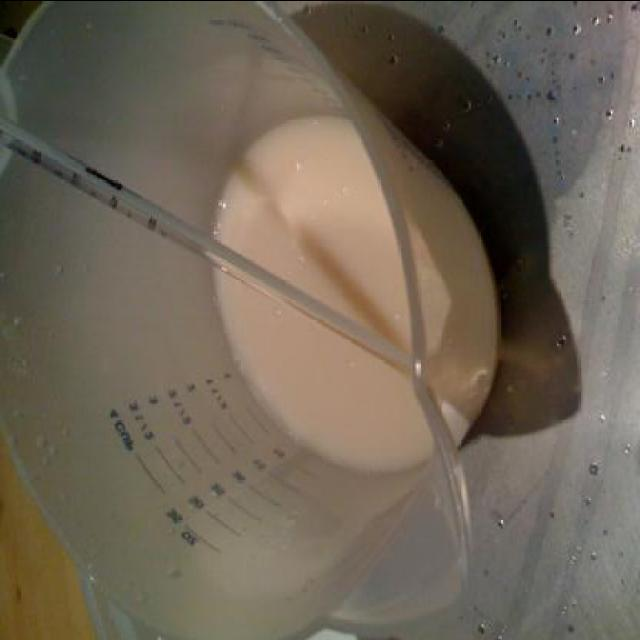Milk: (211, 108, 497, 478)
